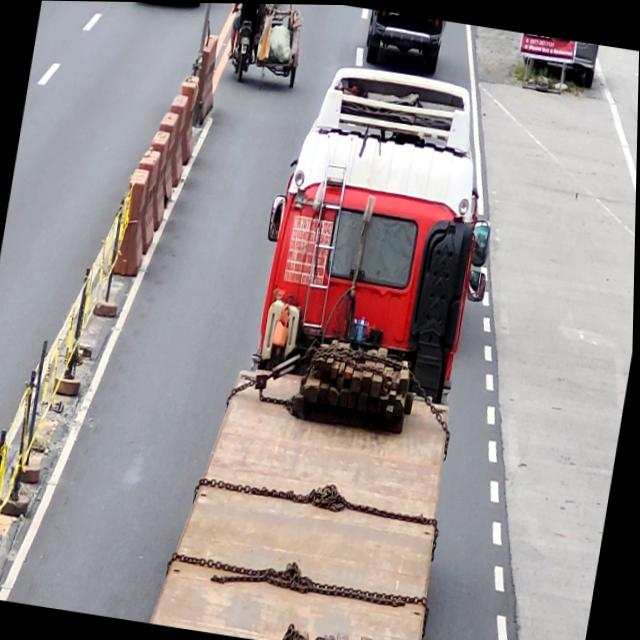Car: (362, 8, 446, 69)
Tricycle: (220, 3, 308, 90)
Truck: (156, 45, 518, 640)
